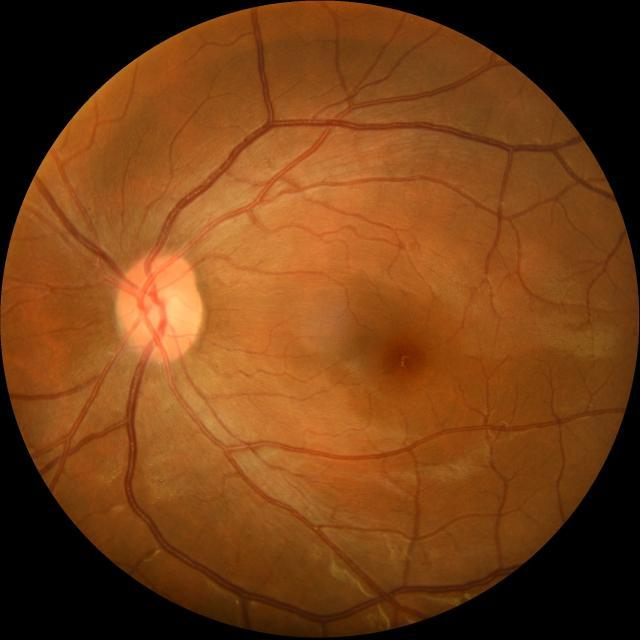OC: (138, 286, 184, 334)
OD: (114, 253, 202, 362)
